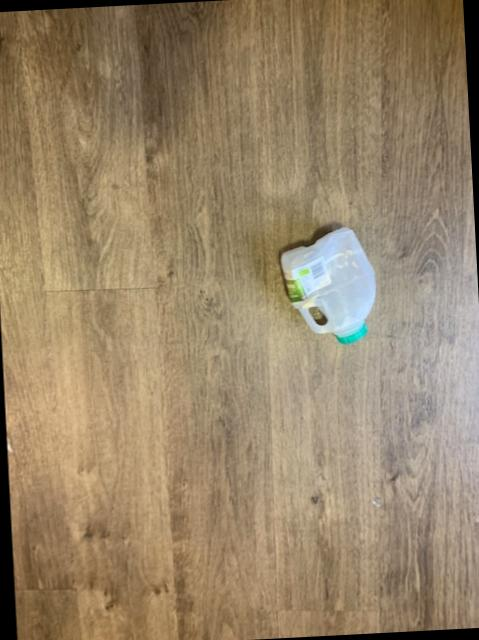plastic: (280, 230, 374, 345)
